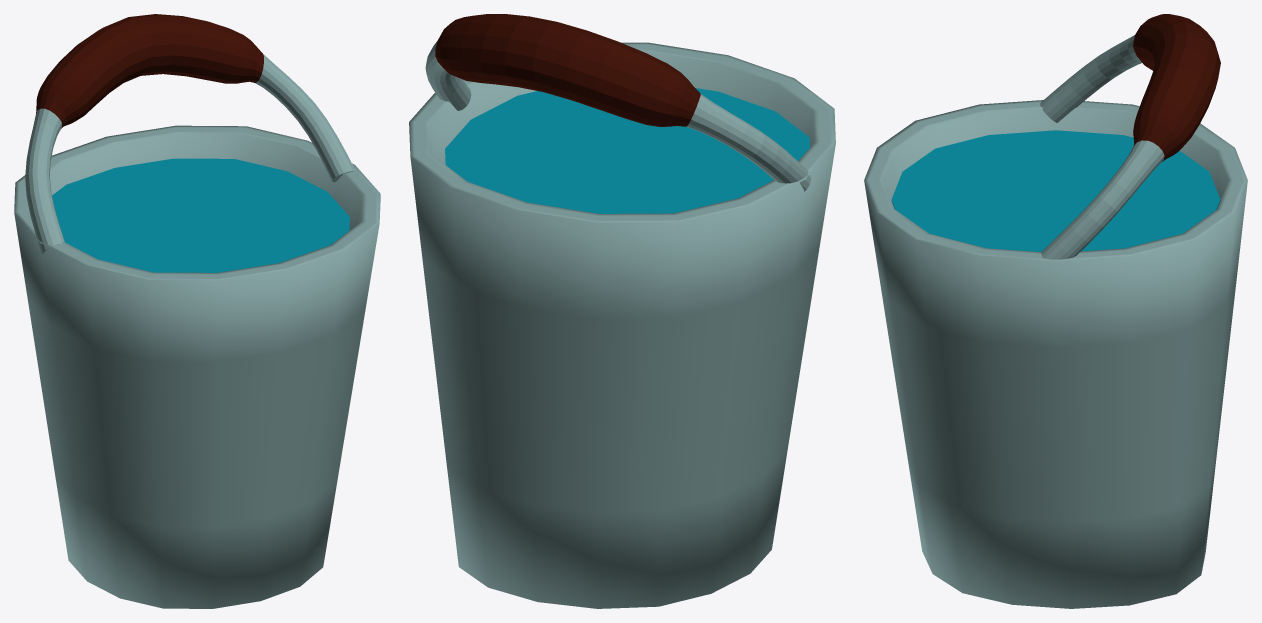
File: bucket-of-ice.obj
3 renders of one model, left to right at view 1: azimuth 30°, elevation 25°; view 2: azimuth 150°, elevation 25°; view 3: azimuth 270°, elevation 25°, orthographic. The views are drawn at different scales.
Visible parts, largest first — view 1: Bucket.002_Cube.1438; view 2: Bucket.002_Cube.1438; view 3: Bucket.002_Cube.1438.
Boxes of the visible parts, x1,y1,x2,y2 form: Bucket.002_Cube.1438: (14, 14, 380, 608); Bucket.002_Cube.1438: (409, 14, 835, 608); Bucket.002_Cube.1438: (864, 14, 1247, 608).
Size of the model in its own units: 1.31 by 1.95 by 1.31.
